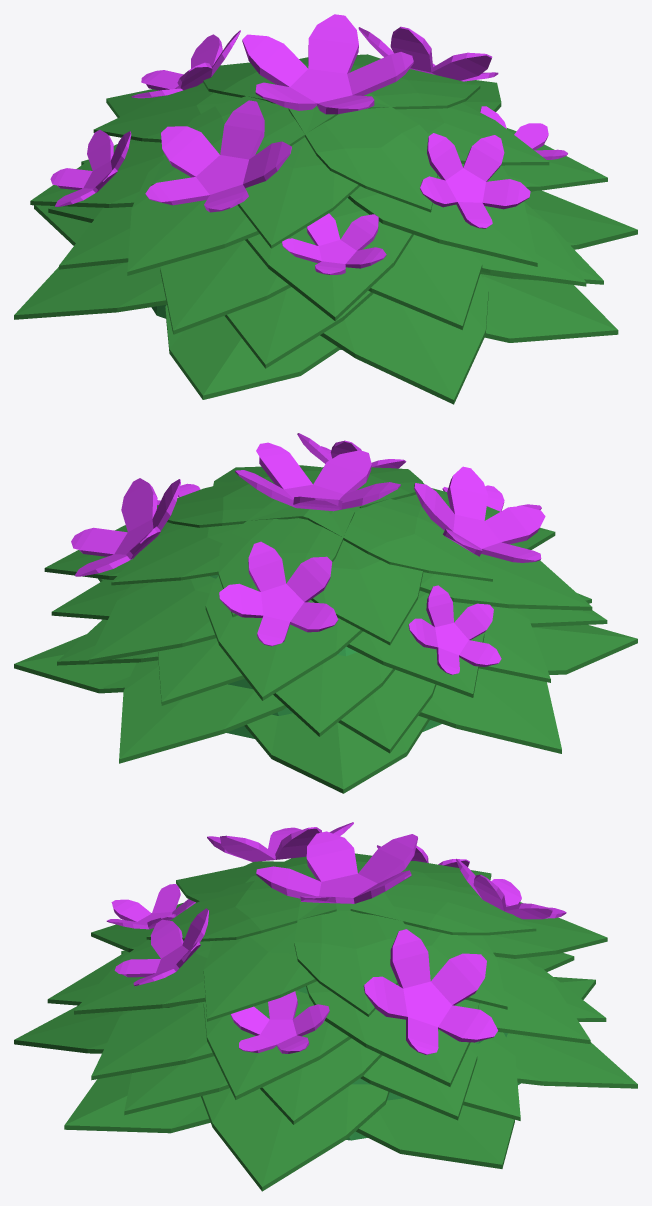
Rendered from BushPurpleFlowers.fbx.
3 renders of one model, top to bottom at view 1: azimuth 30°, elevation 25°; view 2: azimuth 150°, elevation 25°; view 3: azimuth 270°, elevation 25°, orthographic. The views are drawn at different scales.
Parts seen in each view (by area): view 1: BushPurpleFlowers; view 2: BushPurpleFlowers; view 3: BushPurpleFlowers.
Part boxes in pixels (box(x1,y1,x2,y2)): BushPurpleFlowers: box(14, 14, 637, 404); BushPurpleFlowers: box(14, 433, 637, 793); BushPurpleFlowers: box(14, 822, 637, 1191).
Size of the model in its own units: 991 by 373 by 999.
